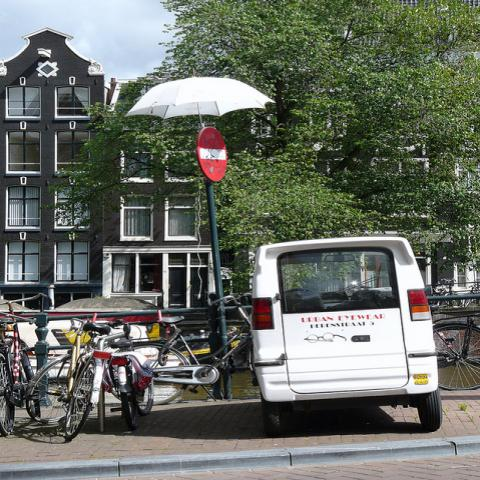car: (57, 298, 162, 310)
truck: (243, 233, 449, 439)
